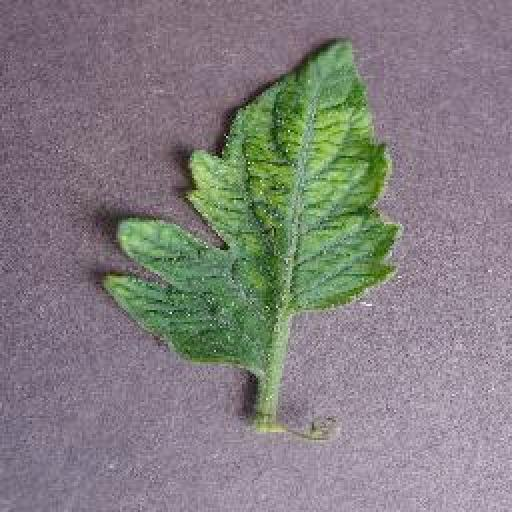Mosaic Virus: (99, 32, 405, 376)
